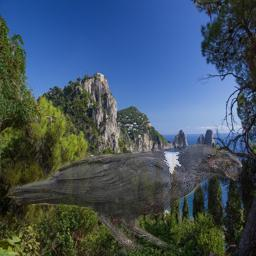Crow: (5, 141, 243, 252)
